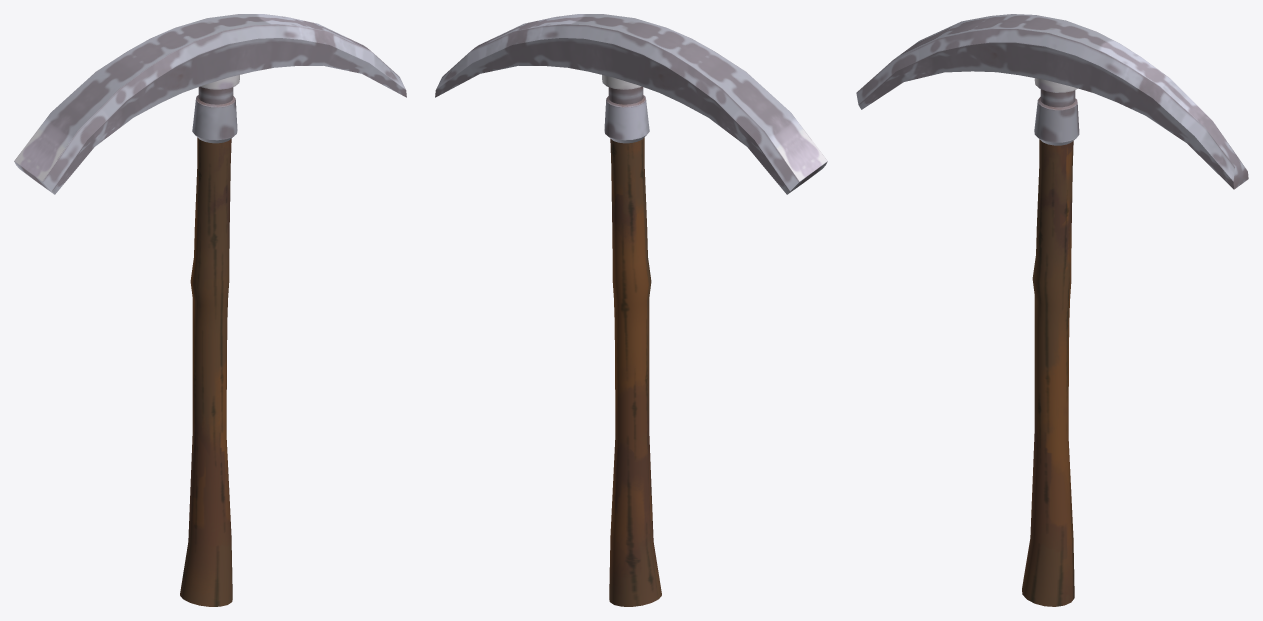
File: Pickaxe_Steel.fbx
The picture shows the model from 3 angles, left to right: view 1: azimuth 30°, elevation 25°; view 2: azimuth 150°, elevation 25°; view 3: azimuth 330°, elevation 25°; orthographic projection.
Parts seen in each view (by area): view 1: Pickaxe_Steel; view 2: Pickaxe_Steel; view 3: Pickaxe_Steel.
Part boxes in pixels (x1,y1,x2,y2): Pickaxe_Steel: (14, 14, 406, 606); Pickaxe_Steel: (435, 14, 827, 606); Pickaxe_Steel: (856, 14, 1248, 606).
Size of the model in its own units: 81.29 by 120 by 13.57.
